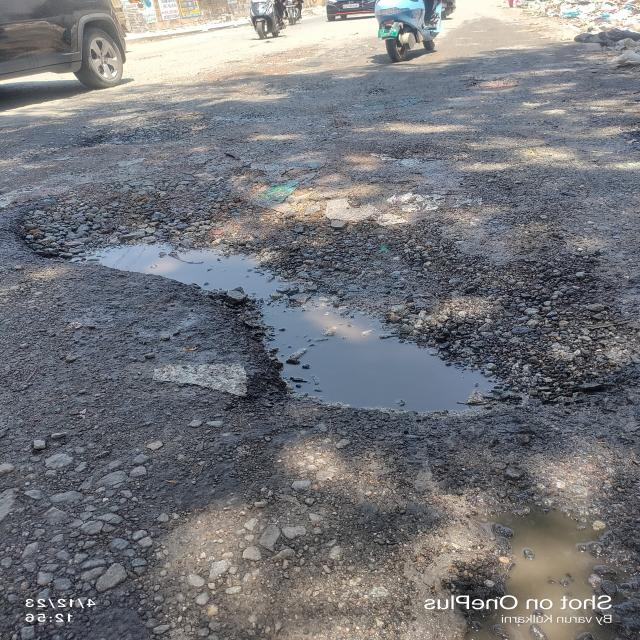Puddle pothole: (24, 199, 561, 417), (462, 486, 640, 637)
